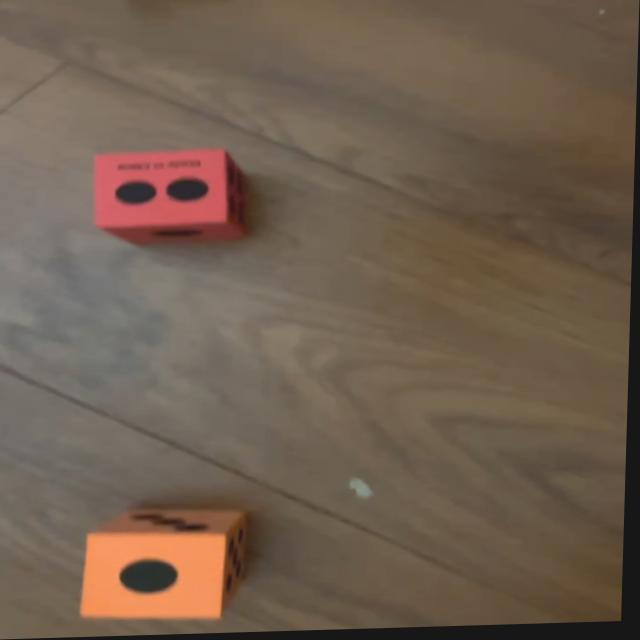red_block: (92, 147, 254, 249)
